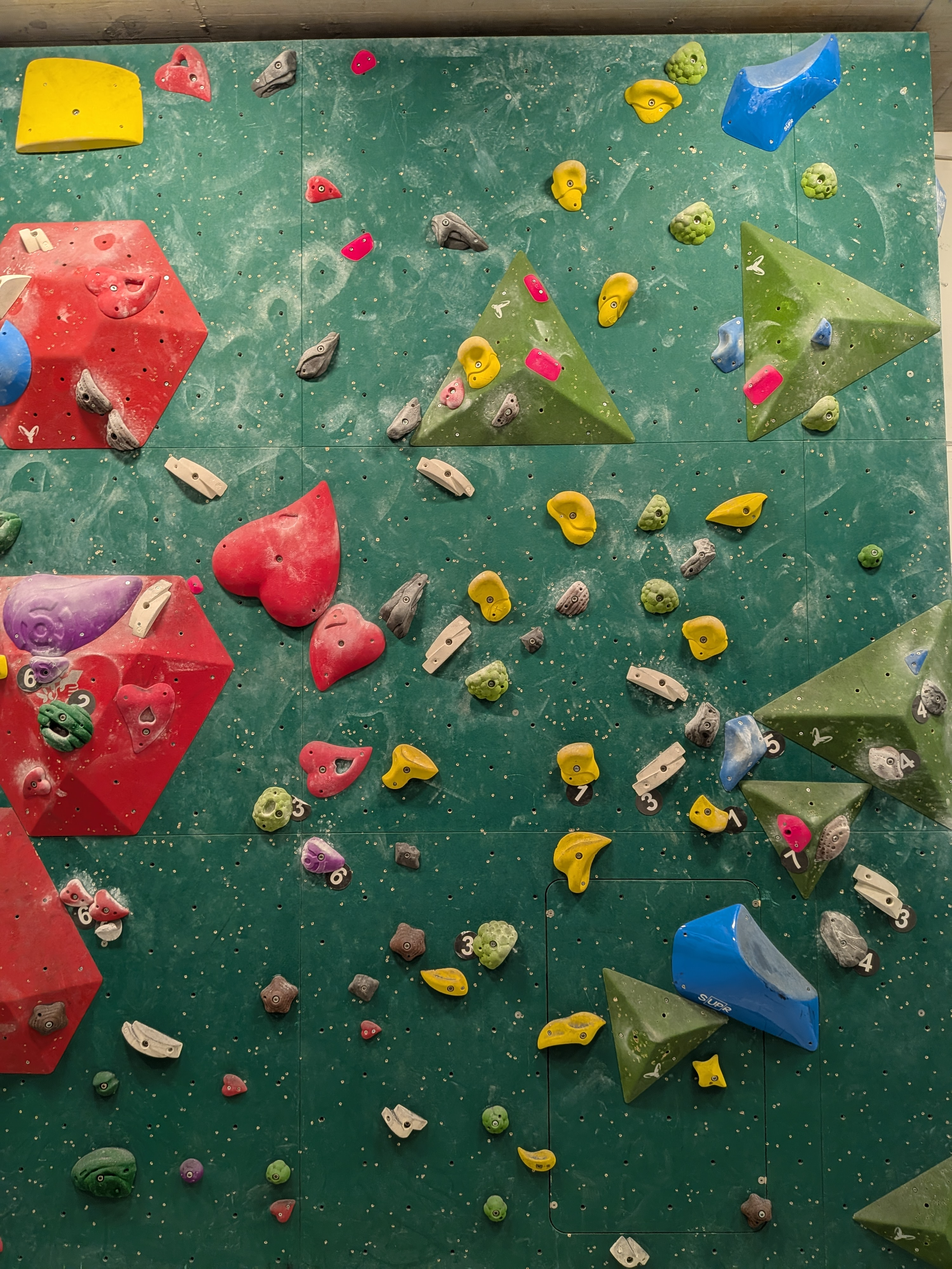hold: (673, 905, 818, 1050), (212, 481, 340, 626), (722, 35, 841, 151), (15, 58, 143, 153), (3, 574, 142, 656), (310, 605, 384, 691), (115, 683, 175, 753), (299, 742, 372, 797), (85, 267, 162, 319), (720, 715, 767, 791), (554, 832, 611, 894), (72, 1147, 135, 1198), (155, 45, 211, 100), (381, 575, 428, 636), (632, 742, 685, 795), (819, 911, 869, 967), (38, 702, 94, 752), (423, 616, 472, 673), (547, 491, 597, 546), (0, 321, 31, 405), (853, 866, 902, 917), (166, 456, 224, 498), (129, 580, 171, 638), (625, 79, 680, 123), (539, 1013, 606, 1049), (382, 745, 436, 789), (251, 49, 297, 99), (468, 572, 512, 622), (417, 458, 473, 497), (458, 336, 500, 388), (122, 1021, 180, 1058), (626, 666, 687, 701), (707, 493, 766, 528), (682, 616, 727, 660), (432, 214, 487, 250), (296, 332, 337, 380), (672, 201, 717, 244), (665, 40, 708, 85), (598, 274, 635, 326), (475, 922, 516, 968), (253, 785, 294, 830), (552, 161, 586, 211), (467, 661, 509, 701), (559, 744, 599, 785), (76, 369, 112, 414), (300, 838, 346, 873), (0, 274, 31, 324), (715, 319, 744, 372), (744, 365, 783, 404), (804, 395, 842, 434), (680, 538, 716, 579), (386, 399, 419, 443), (260, 977, 297, 1016), (689, 795, 728, 832), (817, 815, 849, 860), (686, 703, 720, 745), (106, 409, 138, 453), (383, 1106, 425, 1138), (610, 1235, 649, 1269), (802, 163, 838, 199), (641, 580, 679, 614), (90, 889, 129, 922), (29, 1001, 68, 1034), (778, 814, 810, 853), (637, 494, 669, 532), (422, 970, 468, 996), (391, 925, 424, 961), (526, 347, 560, 381), (557, 581, 590, 616), (28, 657, 69, 685), (741, 1193, 772, 1230), (869, 746, 902, 780), (692, 1055, 726, 1088), (59, 878, 93, 907), (920, 680, 947, 716), (0, 511, 22, 555), (492, 393, 519, 428), (306, 175, 339, 202), (23, 766, 51, 797), (20, 227, 53, 253), (439, 376, 465, 409), (519, 1149, 556, 1172), (342, 233, 373, 260), (482, 1106, 509, 1136), (524, 273, 548, 304), (92, 1071, 118, 1099), (350, 976, 378, 1001), (265, 1160, 291, 1186), (393, 844, 420, 869), (484, 1195, 507, 1223), (269, 1199, 295, 1223), (859, 545, 883, 569), (350, 51, 375, 74), (178, 1160, 201, 1184), (812, 319, 831, 346), (523, 628, 545, 651), (221, 1076, 244, 1097), (907, 649, 927, 671), (186, 575, 204, 595), (361, 1022, 378, 1039)
volume: (0, 575, 235, 835), (0, 220, 209, 450), (752, 599, 952, 833), (408, 250, 636, 445), (743, 222, 944, 441), (0, 805, 103, 1074), (603, 968, 732, 1105), (737, 781, 873, 899), (852, 1155, 952, 1269)
